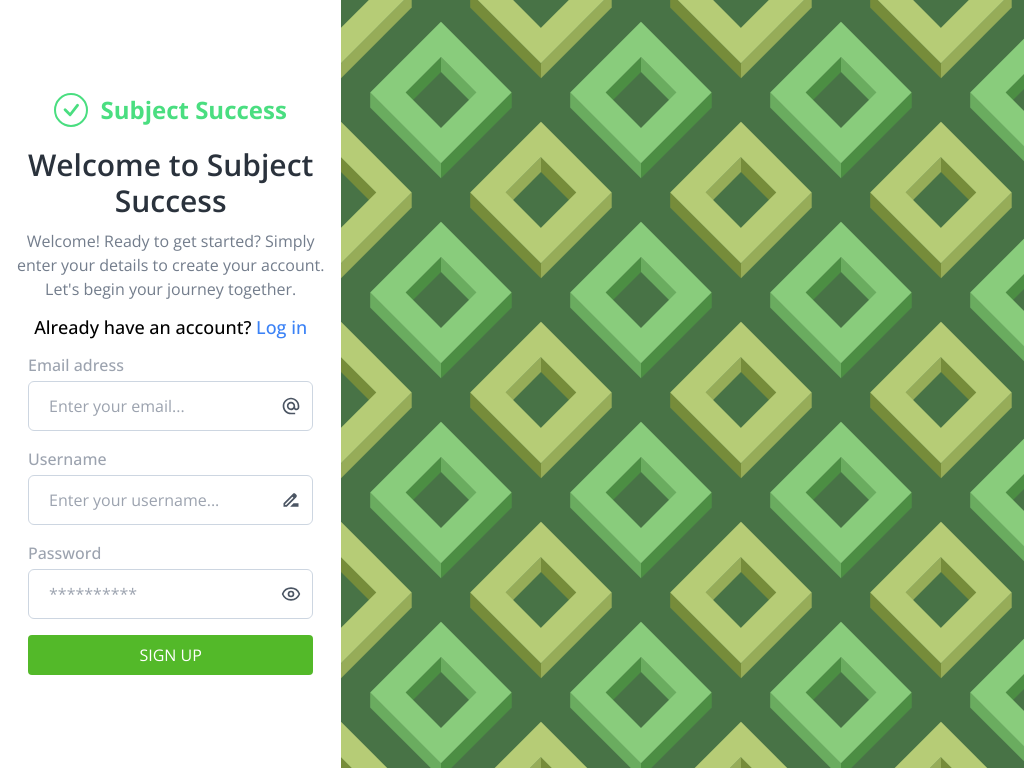
Test: Sign Up Test › with invalid password › should render password is to short validation error
The width and height of the screenshot is (1024, 768).
Type "test123" into the password field labelled "Password" at (171, 594), box [28, 569, 313, 619]
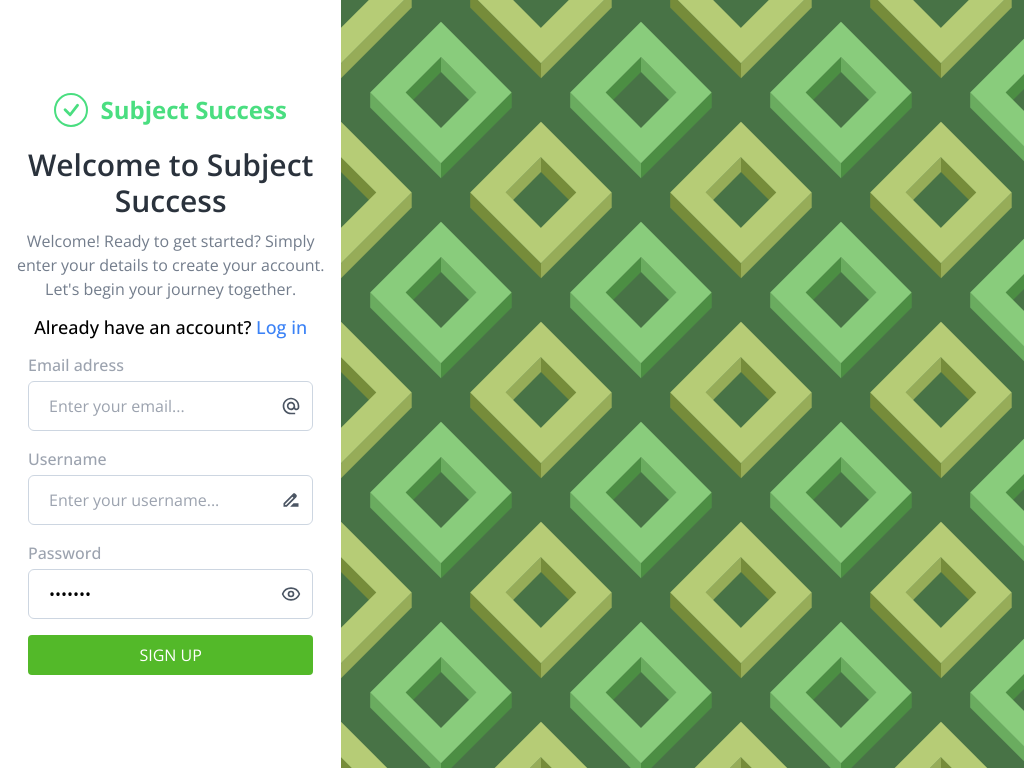
Click the field labelled "Email adress" at (171, 406), box [28, 381, 313, 431]
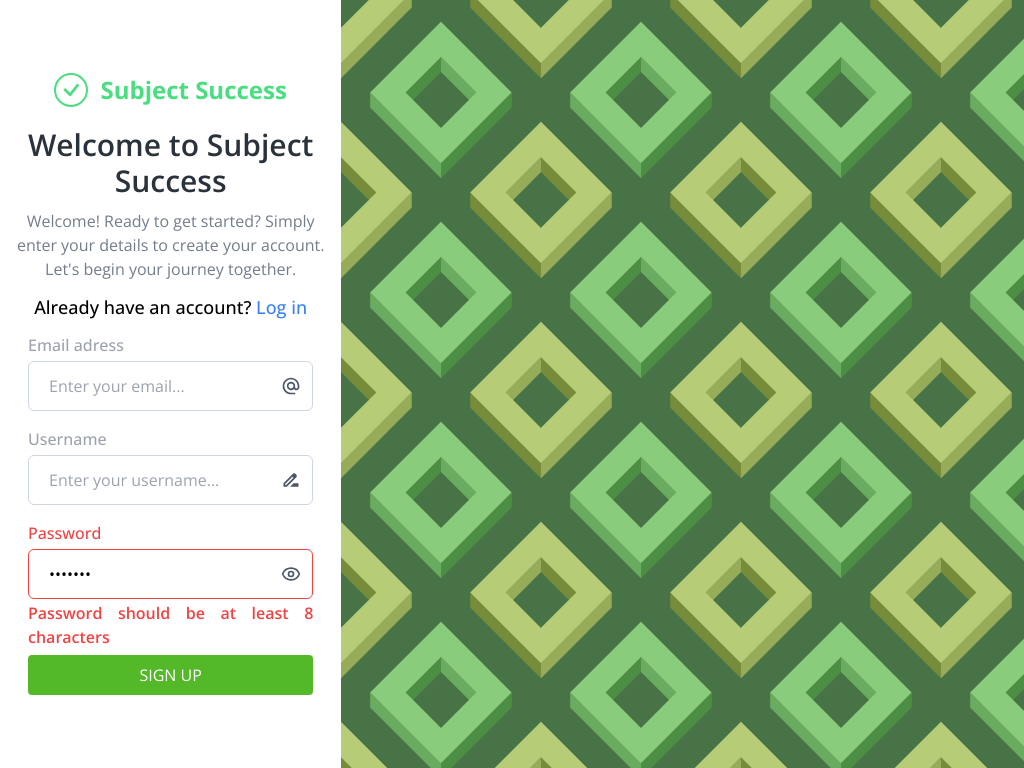
Result: the text "Password should be at least 8 characters" is shown at [28, 601, 313, 649]
